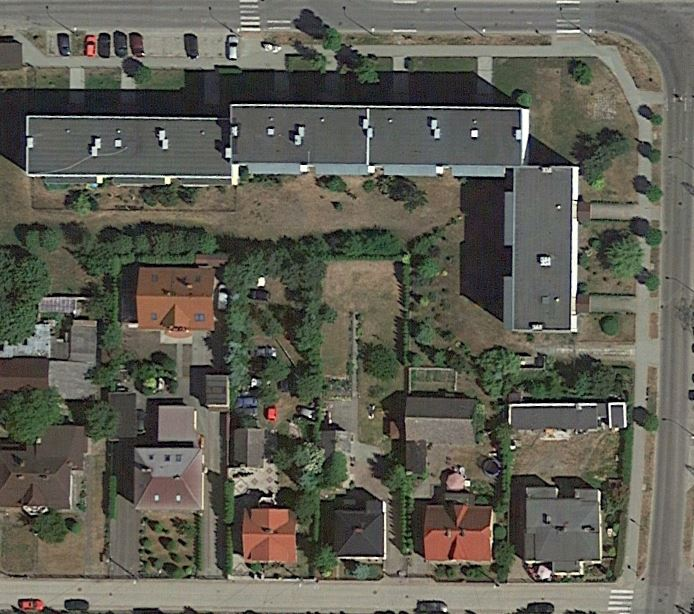block of flats: (24, 97, 582, 336)
family house: (1, 417, 94, 513), (521, 483, 609, 577), (131, 262, 228, 343), (133, 442, 209, 519), (421, 498, 502, 568), (400, 387, 487, 441), (331, 496, 389, 564), (241, 504, 300, 567)
garage: (1, 318, 104, 402), (506, 393, 631, 436), (104, 387, 142, 442), (152, 399, 199, 443), (233, 424, 266, 470)
